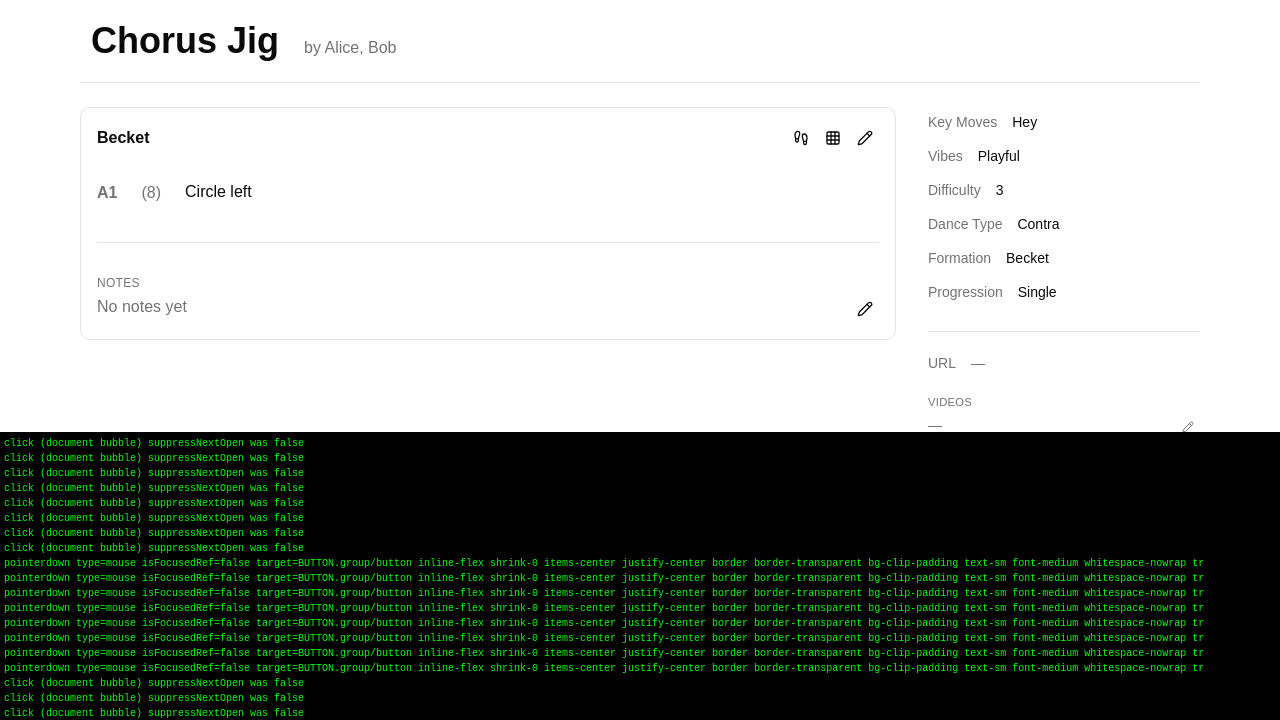
Test: DanceDetailPage › does not also leave figures edit mode when Escape reverts a focused sub-field mid-edit
The width and height of the screenshot is (1280, 720).
Click the button named "Edit figures". click: (865, 138)
box: [851, 124, 879, 152]
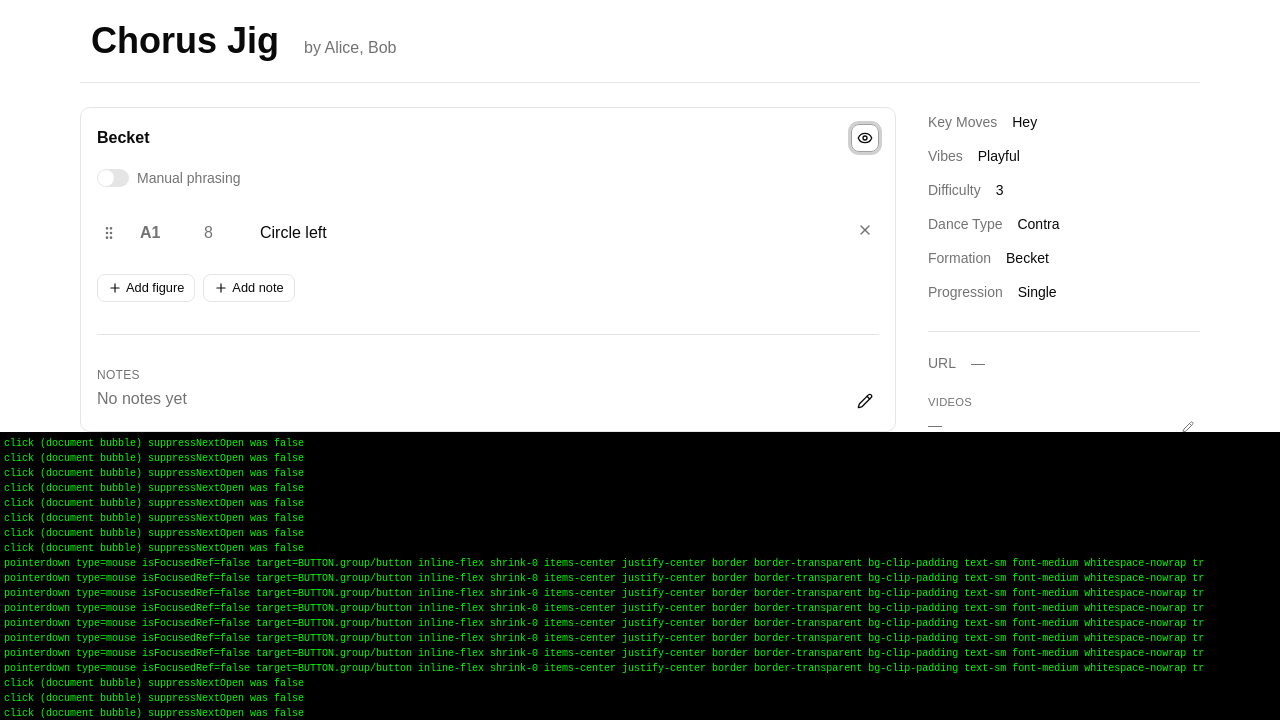
Click the text "8". click: (208, 232)
box: [204, 224, 213, 241]
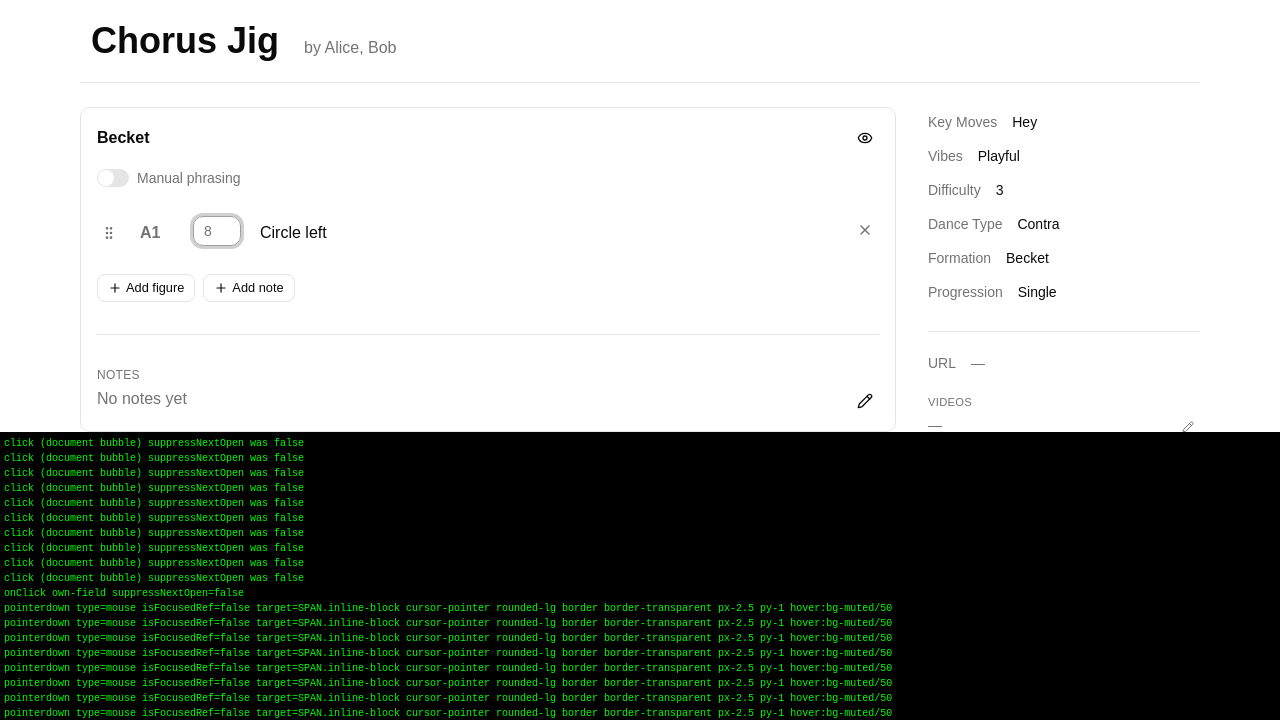
Type "9" into the field. click: (217, 231)
box: [193, 216, 241, 246]
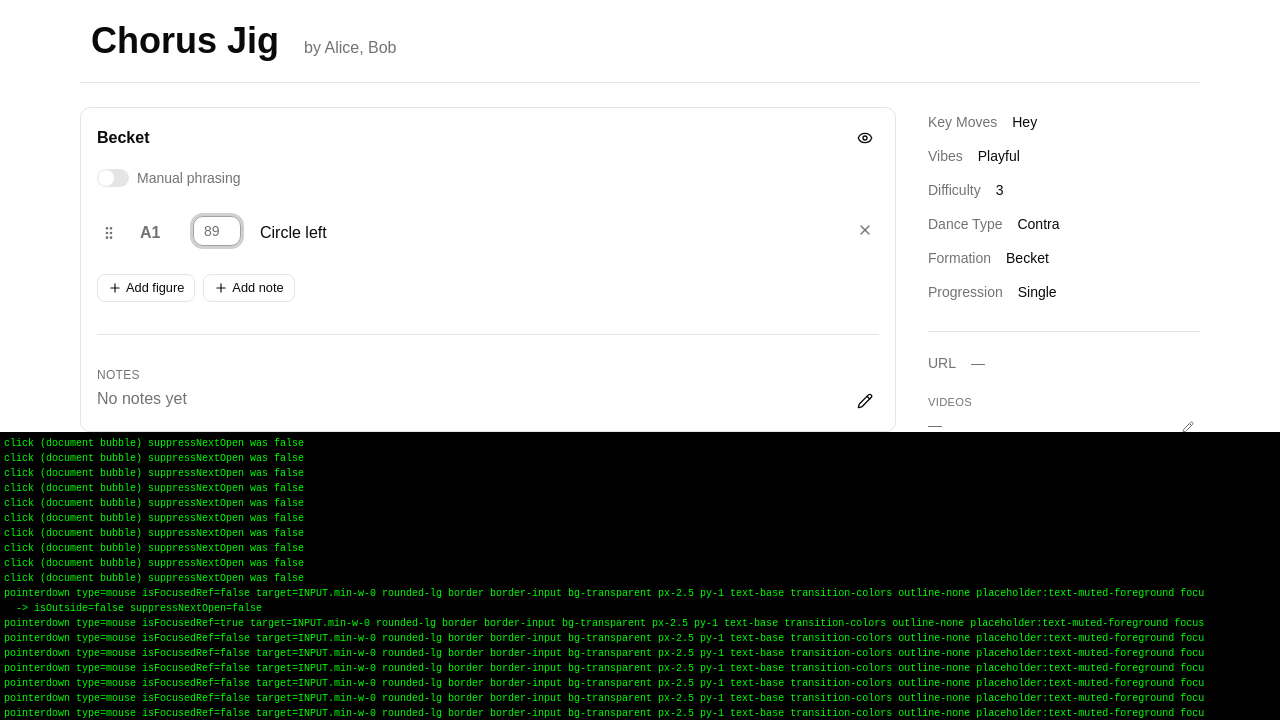
Press Escape in the field, box [193, 216, 241, 246]
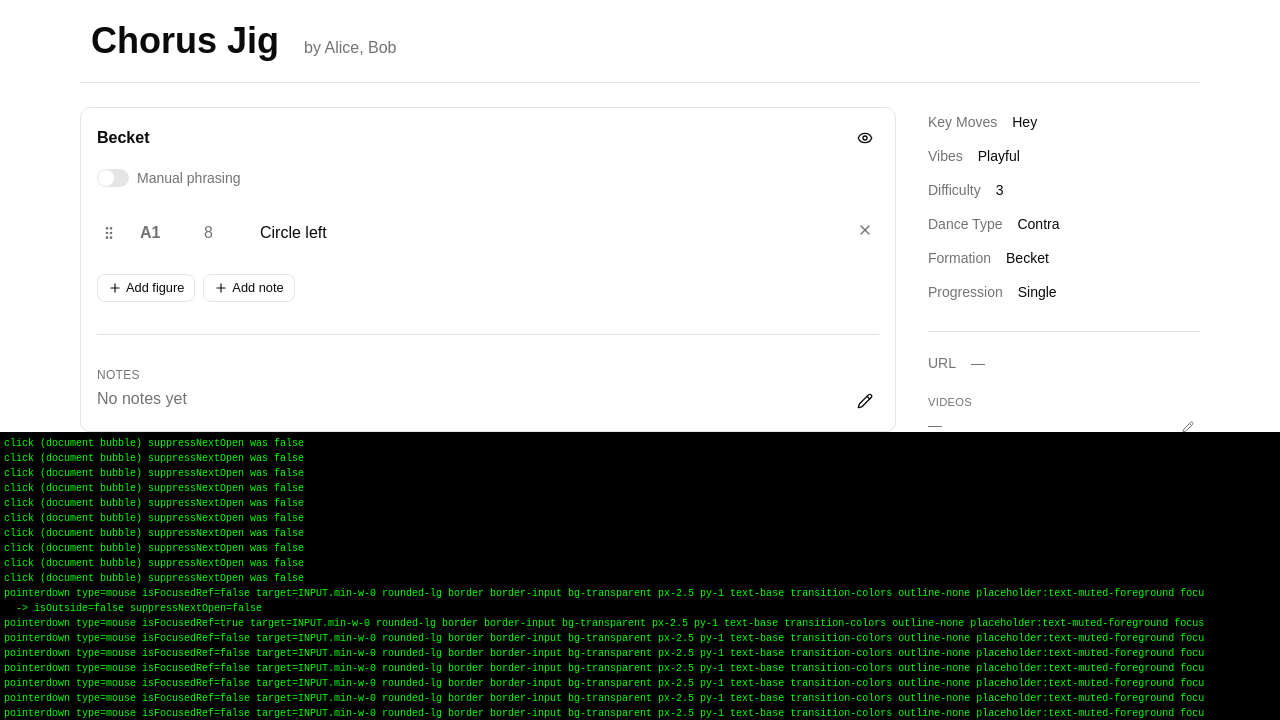
Result: the button named "Done editing figures" is shown at [851, 124, 879, 152]
Result: the field is gone
Result: the text "8" is shown at [204, 224, 213, 241]
